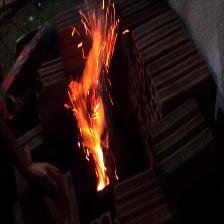fire: (71, 25, 117, 191)
